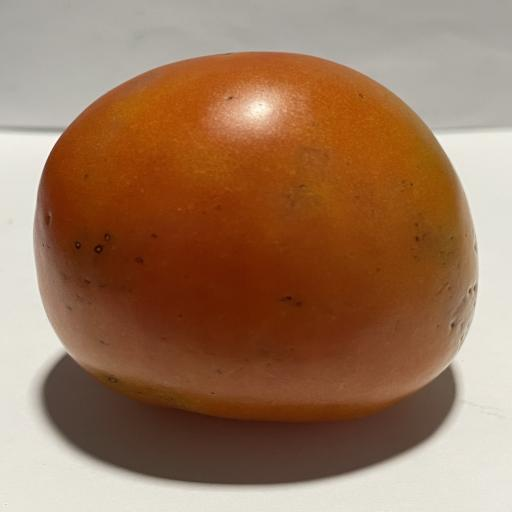ripe: (34, 52, 477, 421)
